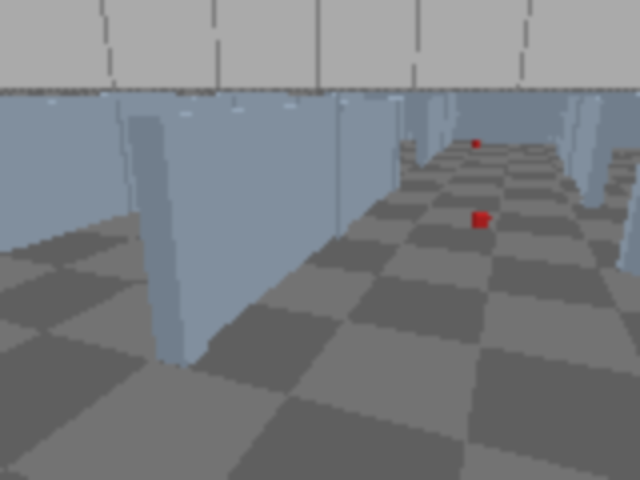puck: (471, 212, 490, 228)
